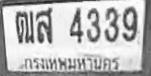3: (103, 6, 118, 41), (86, 7, 100, 41)
4: (69, 7, 82, 42)
9: (122, 5, 137, 41)
A18: (14, 10, 34, 43)
A40: (35, 7, 52, 43)
BKK: (22, 54, 121, 73)
